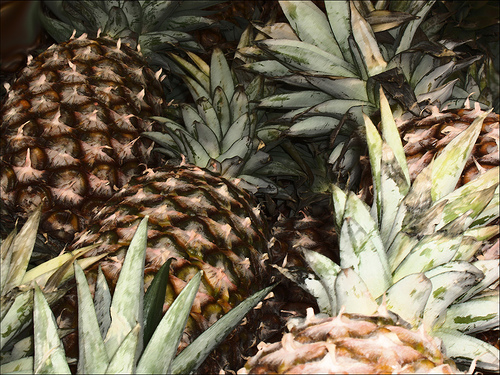pineapple: (229, 86, 499, 374), (246, 0, 499, 264), (0, 2, 214, 256)
